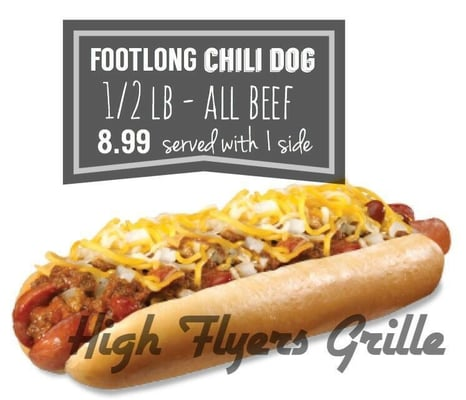burger: (18, 182, 451, 390)
